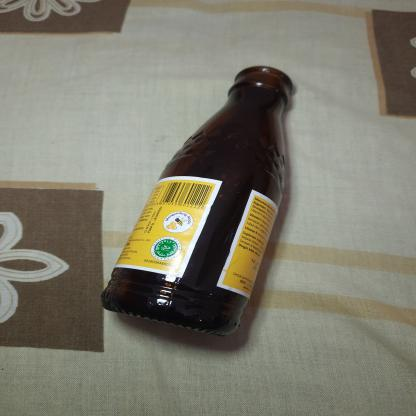bottle: (94, 56, 311, 339)
